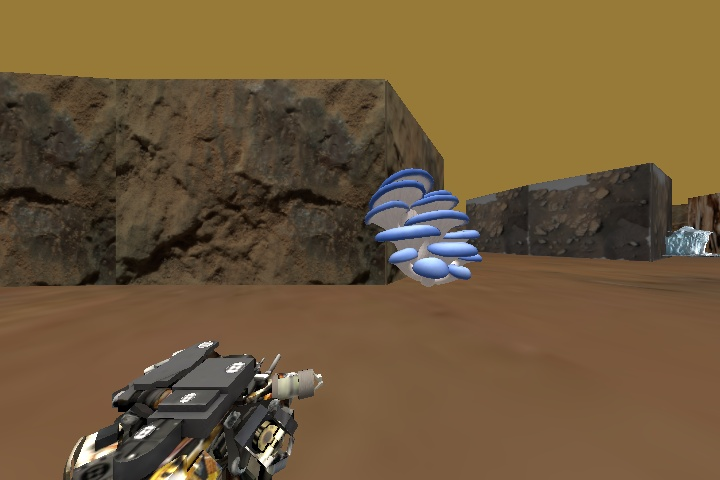minerals: (664, 225, 714, 260)
mushroom: (364, 167, 479, 288)
